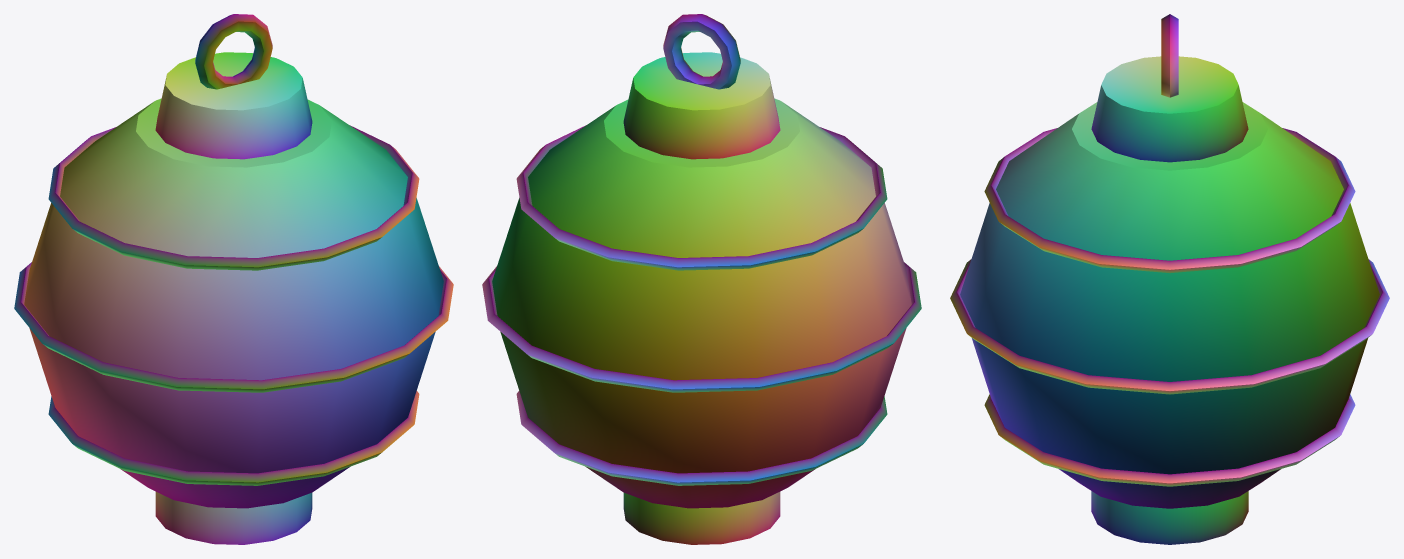
File: paper_lantern.fbx
3 views of the same model, side by side, from view 1: azimuth 30°, elevation 25°; view 2: azimuth 150°, elevation 25°; view 3: azimuth 270°, elevation 25° (orthographic).
Visible parts, largest first — view 1: paper_lantern; view 2: paper_lantern; view 3: paper_lantern.
Part boxes in pixels (x1,y1,x2,y2): paper_lantern: [14, 14, 453, 544]; paper_lantern: [482, 14, 921, 544]; paper_lantern: [950, 14, 1389, 544].
Size of the model in its own units: 0.448 by 0.555 by 0.448.
